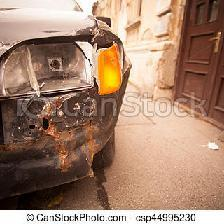head_lamp: (14, 26, 133, 162)
